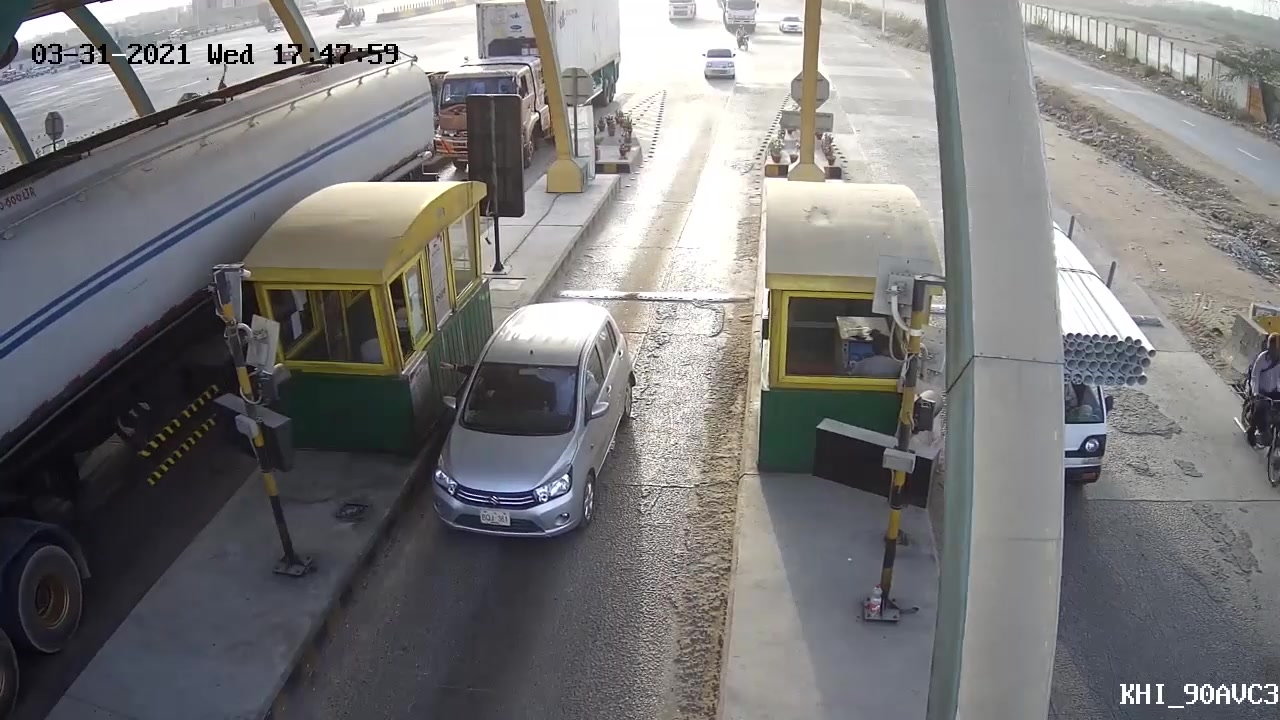F1: (412, 299, 642, 540)
